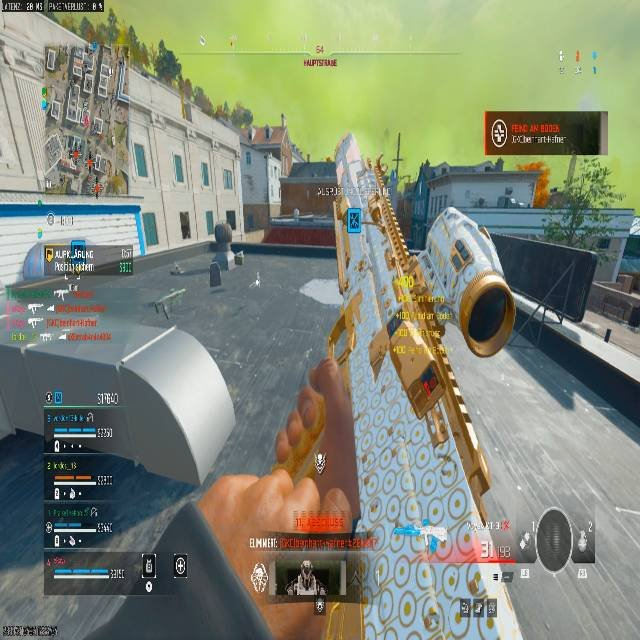player: (205, 221, 232, 288)
